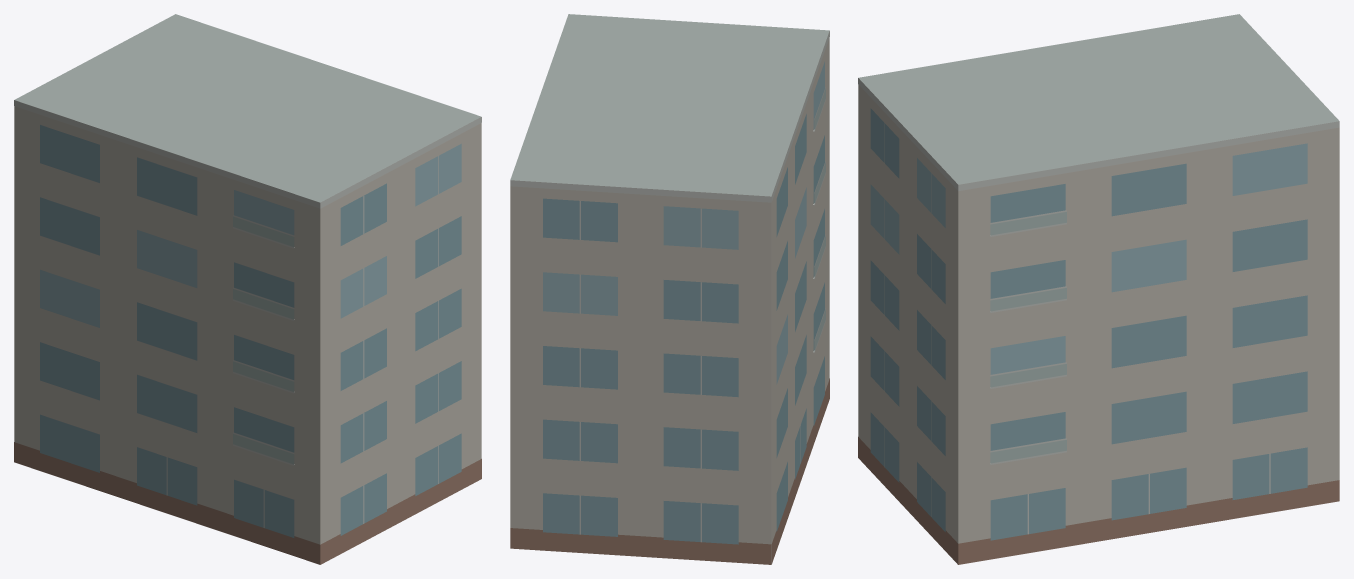
Rendered from survey-upis-32884324.glb.
3 views of the same model, side by side, from view 1: azimuth 30°, elevation 25°; view 2: azimuth 150°, elevation 25°; view 3: azimuth 270°, elevation 25° (orthographic). The views are drawn at different scales.
Visible parts, largest first — view 1: survey-upis-32884324.tmp; view 2: survey-upis-32884324.tmp; view 3: survey-upis-32884324.tmp.
Boxes of the visible parts, x1=… form: survey-upis-32884324.tmp: x1=14, y1=14, x2=481, y2=564; survey-upis-32884324.tmp: x1=510, y1=14, x2=829, y2=564; survey-upis-32884324.tmp: x1=858, y1=14, x2=1339, y2=564.
Bounding box in the file's own units: 14.04 × 14.55 × 16.72.
